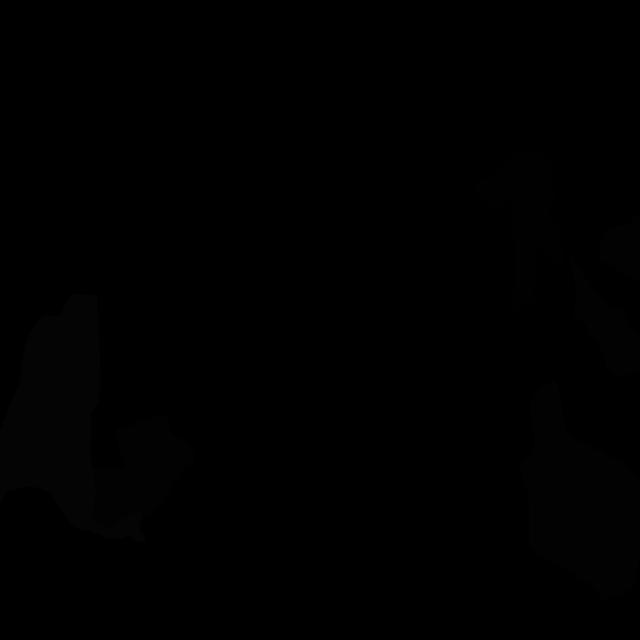cardboard: (520, 380, 640, 603), (91, 414, 195, 529), (569, 255, 640, 378), (599, 213, 640, 281)
rigid_plastic: (473, 149, 564, 311)
soft_plastic: (0, 294, 145, 543)
